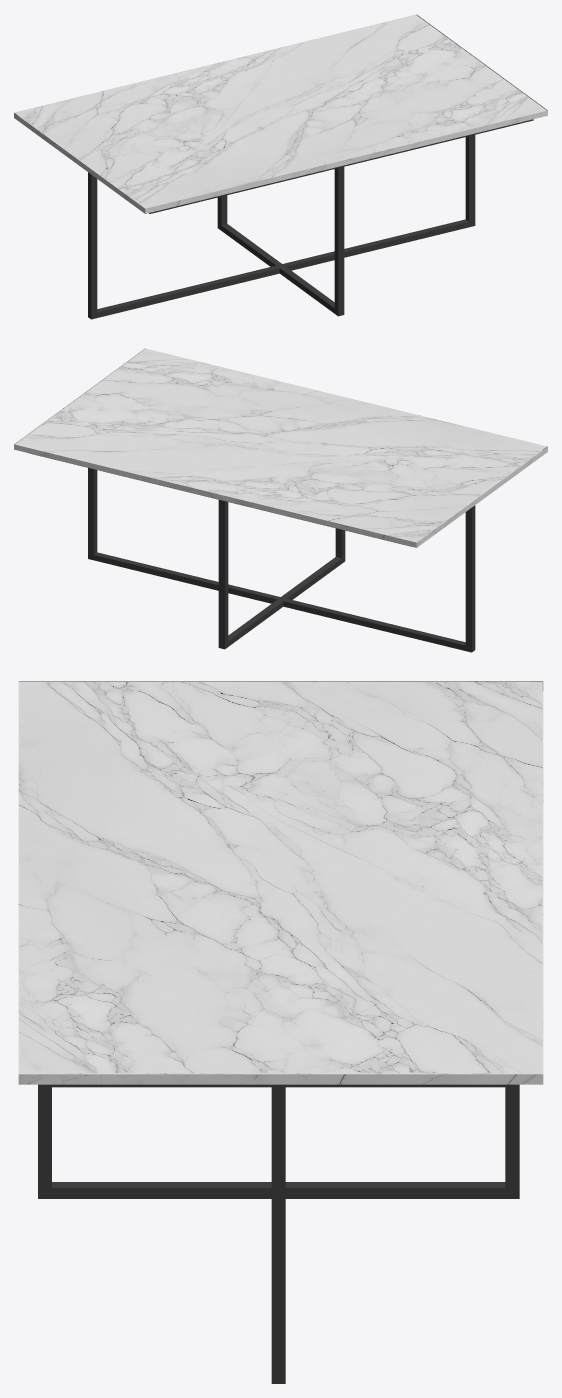
File: FUR0210077.fbx
The picture shows the model from 3 angles, top to bottom: view 1: azimuth 30°, elevation 25°; view 2: azimuth 150°, elevation 25°; view 3: azimuth 270°, elevation 25°; orthographic projection. The views are drawn at different scales.
Parts seen in each view (by area): view 1: smFUR0210077; view 2: smFUR0210077; view 3: smFUR0210077.
Part boxes in pixels (bbox=[...]): smFUR0210077: bbox=[14, 14, 547, 319]; smFUR0210077: bbox=[14, 348, 547, 652]; smFUR0210077: bbox=[18, 681, 543, 1383].
Bounding box in the file's own units: 146 × 55.11 × 82.19.
Materials: 1 (1 with a texture image).
